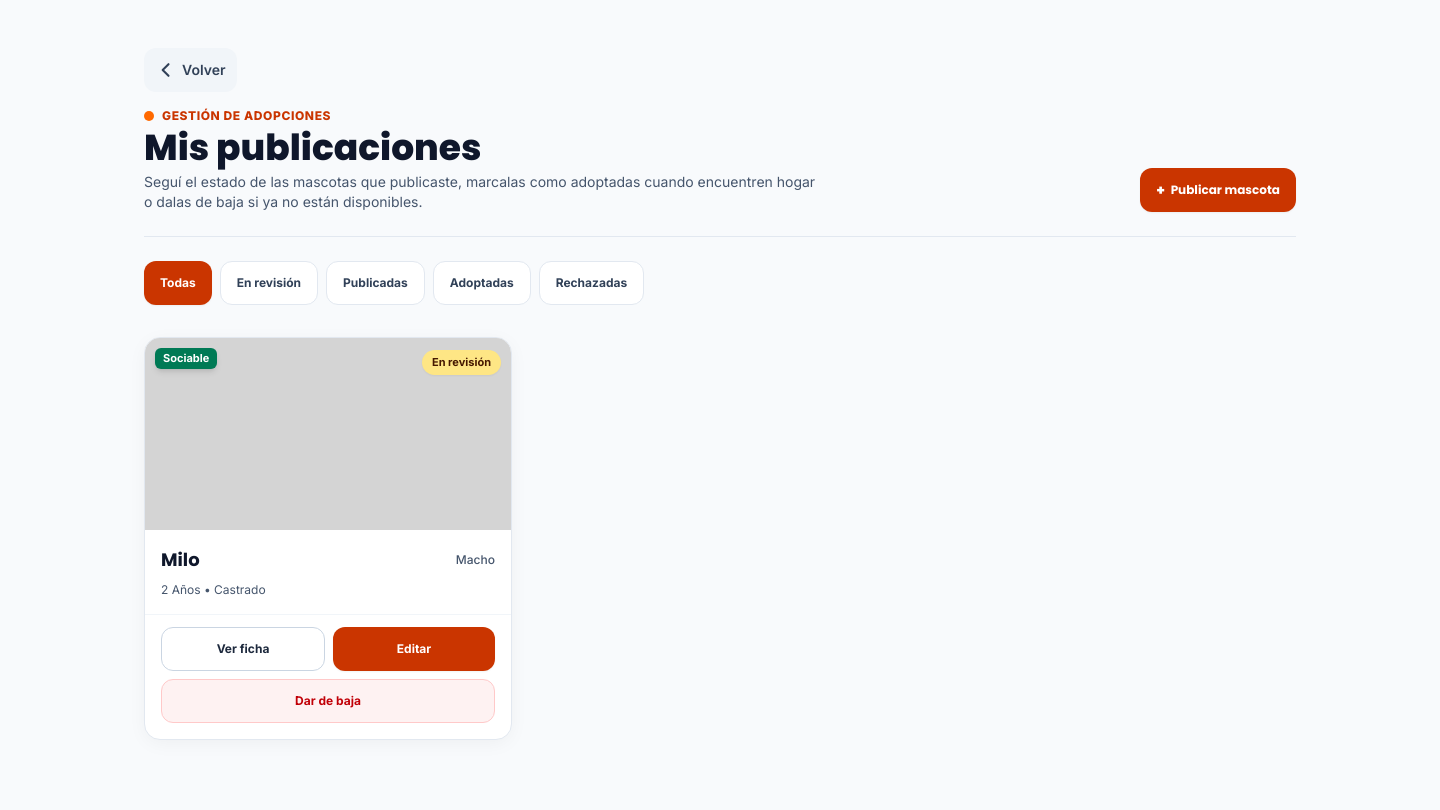
Scenario: MyPetsView › permite dar de baja lógica una publicación y recarga el listado
The image size is (1440, 810).
Later steps or results of the test are not shown.
Expected: the heading "Milo" is shown, 161,546 -> 200,574
Click the button "Dar de baja": (328, 701) 161,679 -> 495,723
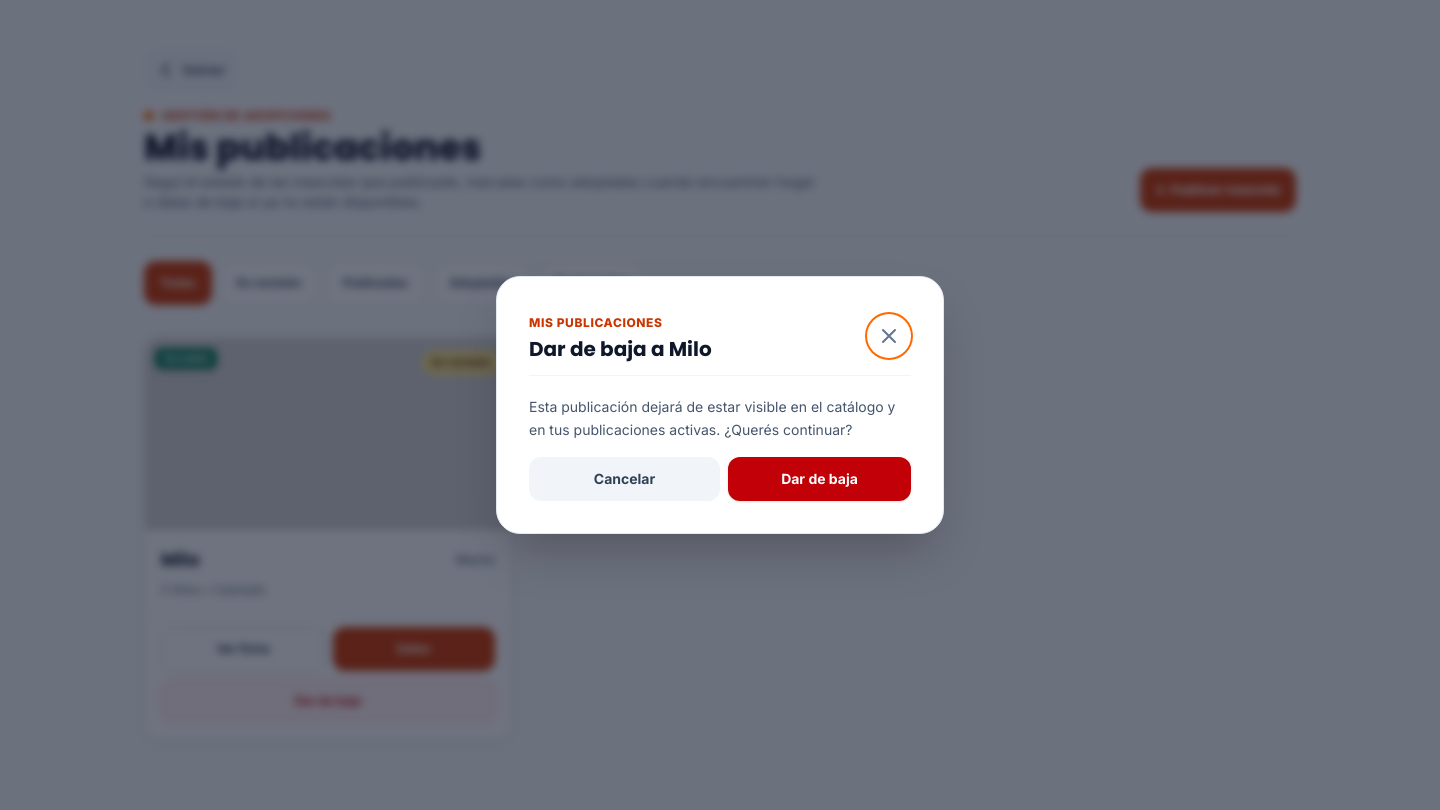
Expected: the dialog "Dar de baja a Milo" is shown
Expected: the button "Dar de baja" is shown
Click the button "Dar de baja": (820, 479) 728,457 -> 911,501
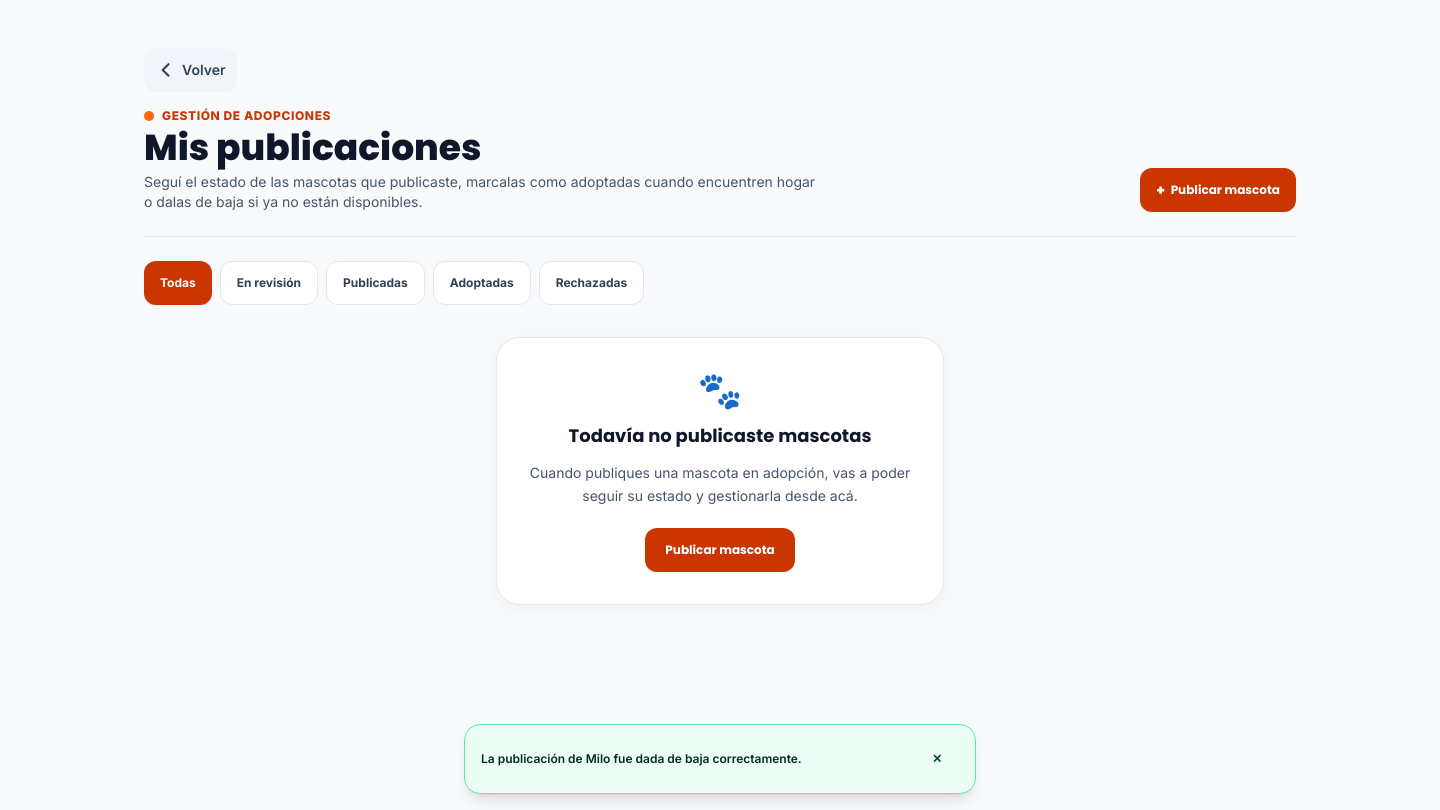
Expected: the text "La publicación de Milo fue dada de baja correctamente." is shown, 481,751 -> 802,767
